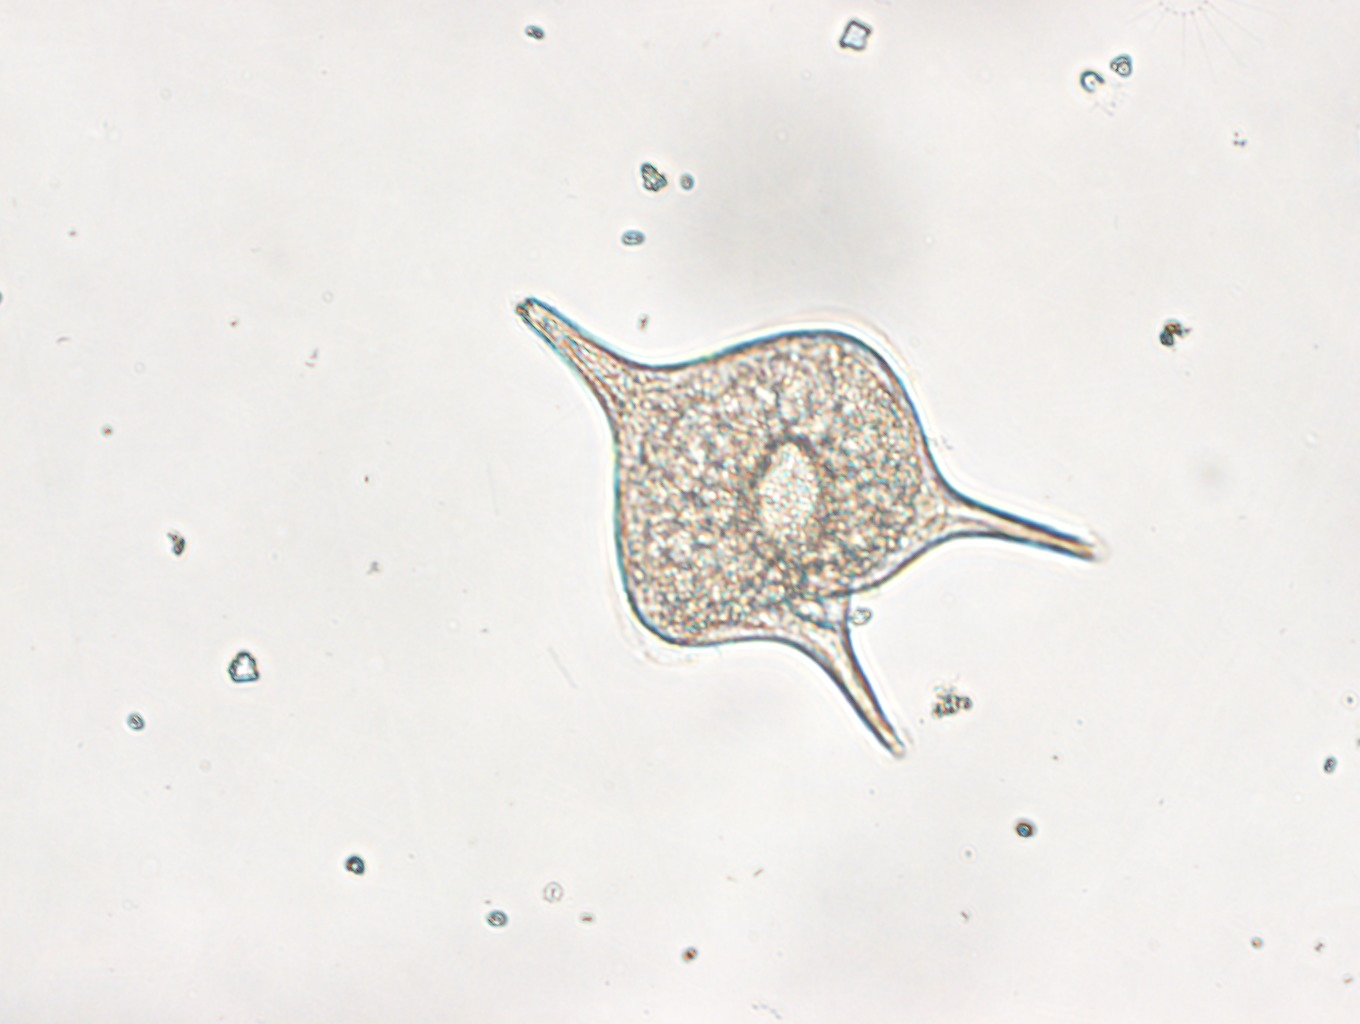protoperidinium: (511, 294, 1096, 760)
